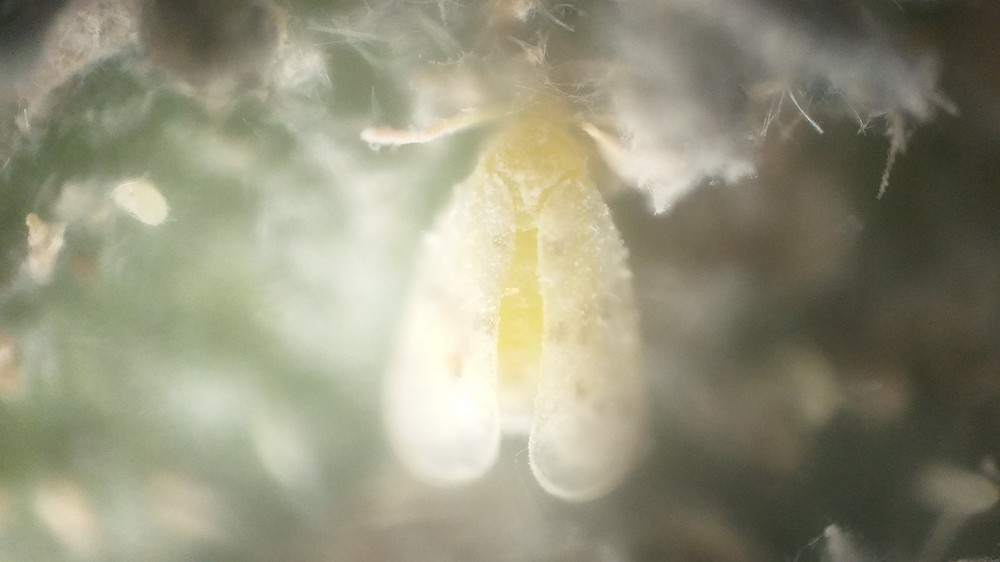Mosca Blanca: (346, 87, 700, 521)
